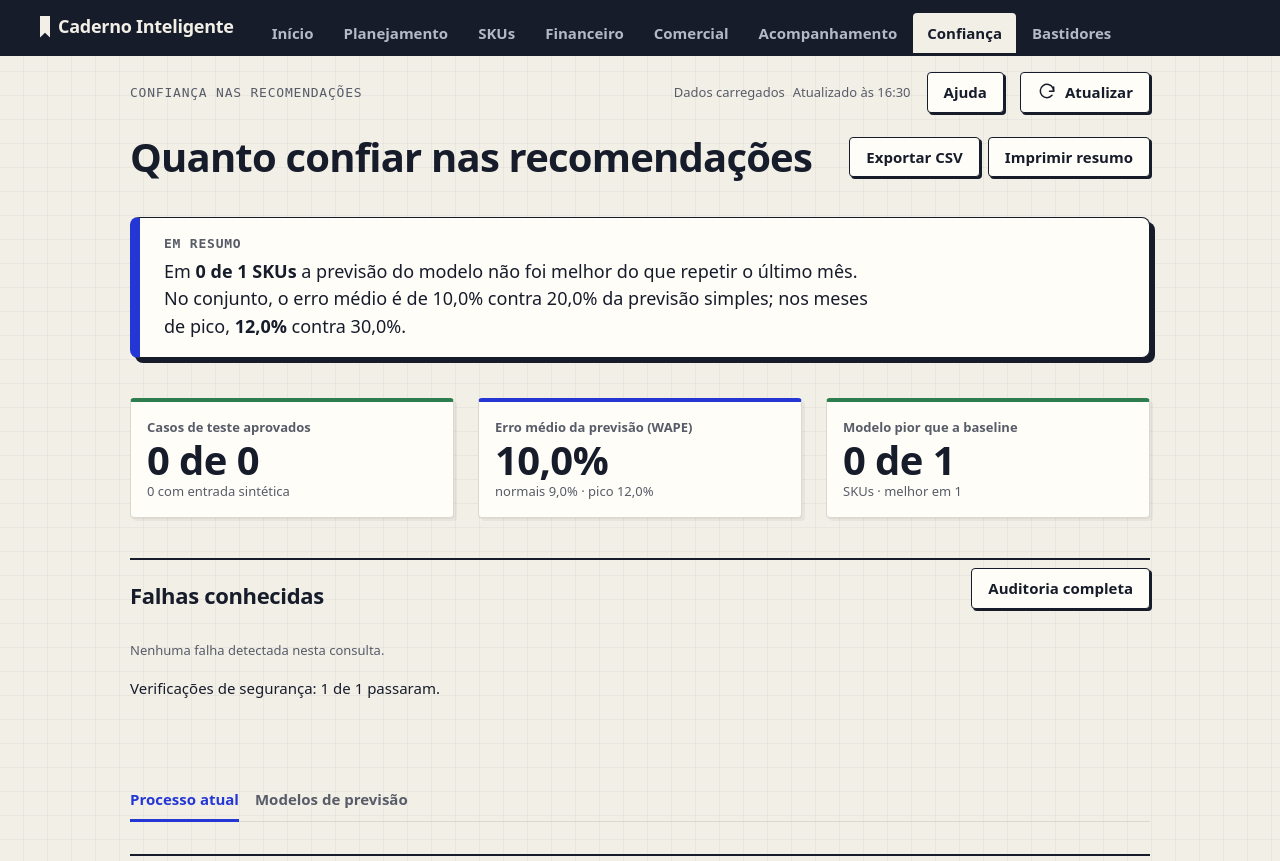
it: laboratório de previsão na Validação › mostra o laboratório na aba de modelos, avisando que nada foi promovido
expect the heading "Em resumo" is shown: met, box [164,236,242,251]
Click the tab "Modelos de previsão": coordinates (331, 801) [255,780,408,822]
(page scrolled)
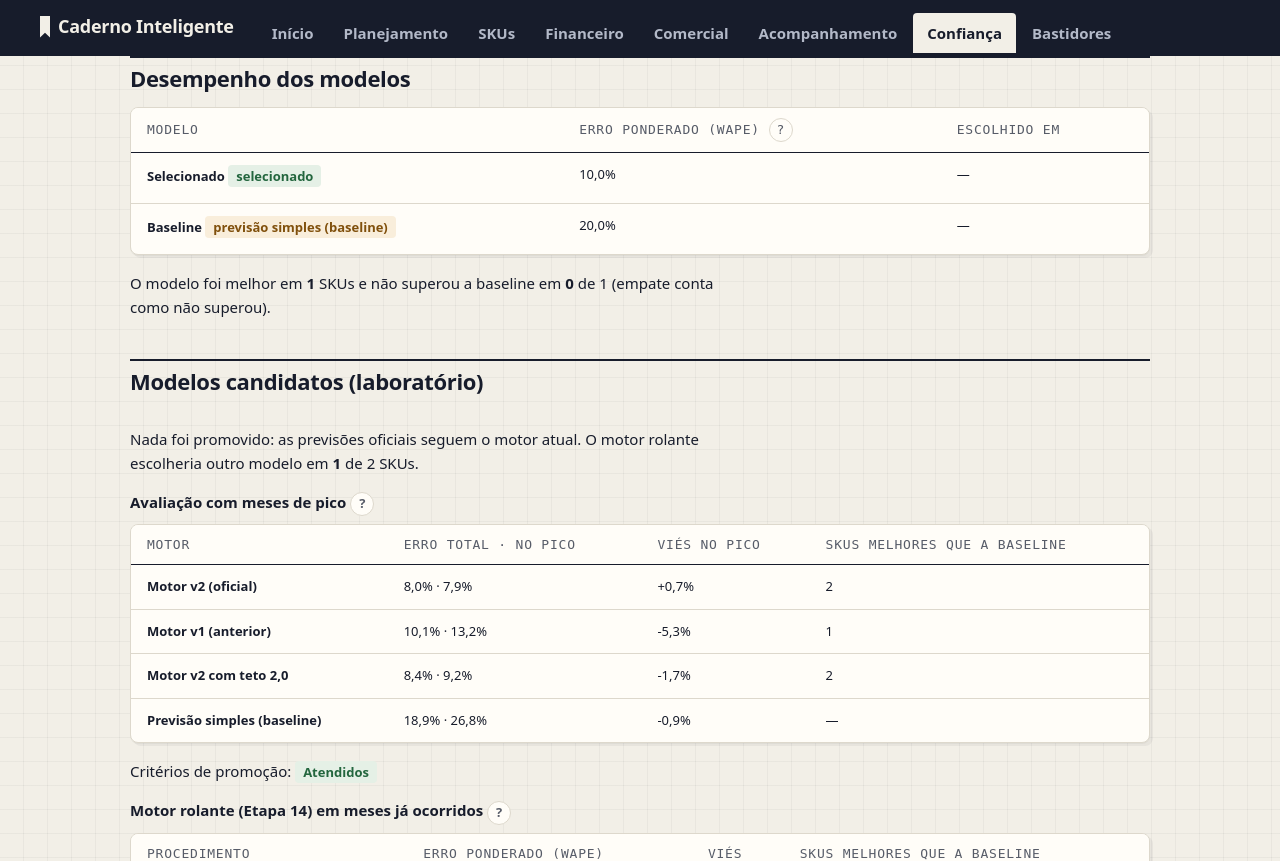
expect the heading "Modelos candidatos (laboratório)" is shown: met, box [130,369,483,395]
expect the text "Nada foi promovido: as previsões oficiais seguem o motor atual" is shown: met, box [130,429,581,449]
